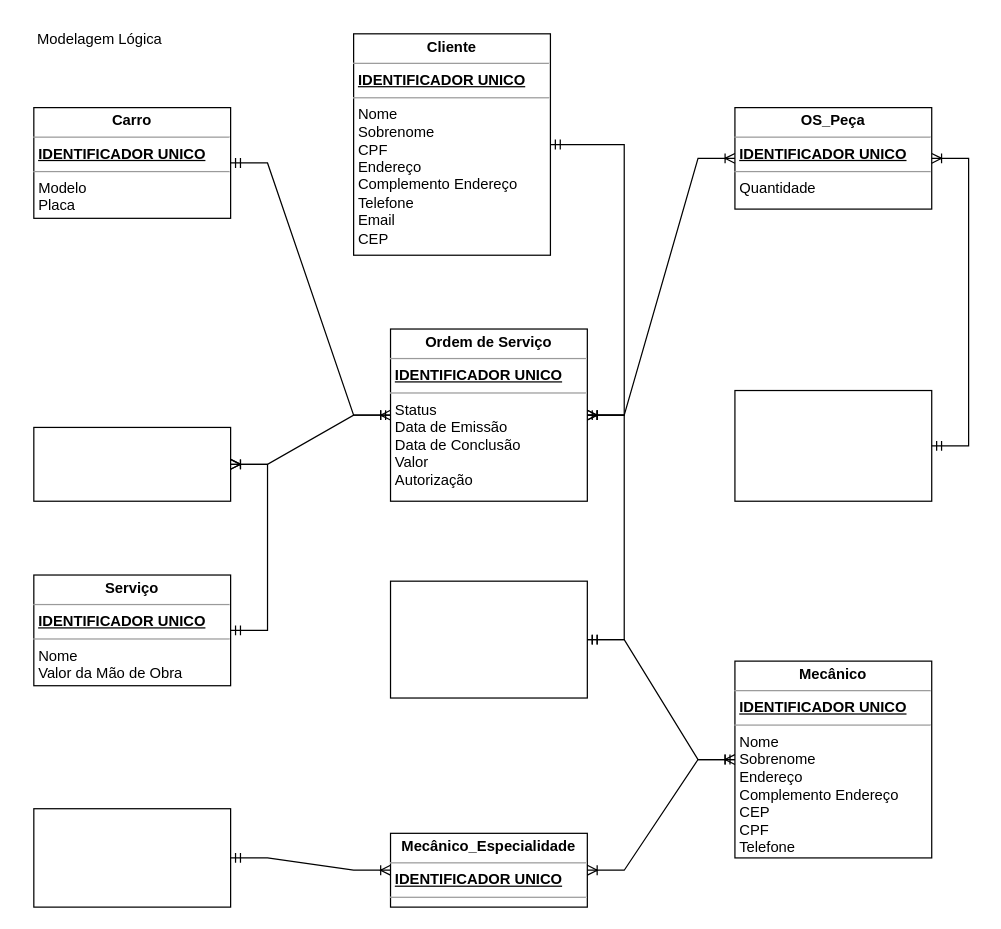
Some shapes in this 1001 by 929 pixel diagram are drawn without their labels. The centre of each missing label's shape, as x and y in pixels:
Equipe IDENTIFICADOR UNICO Nome Representante: [488,639]
Especialidade IDENTIFICADOR UNICO Nome: [132,857]
OS_Serviço IDENTIFICADOR UNICO: [132,463]
Peça IDENTIFICADOR UNICO Nome Valor Unitário: [833,445]
